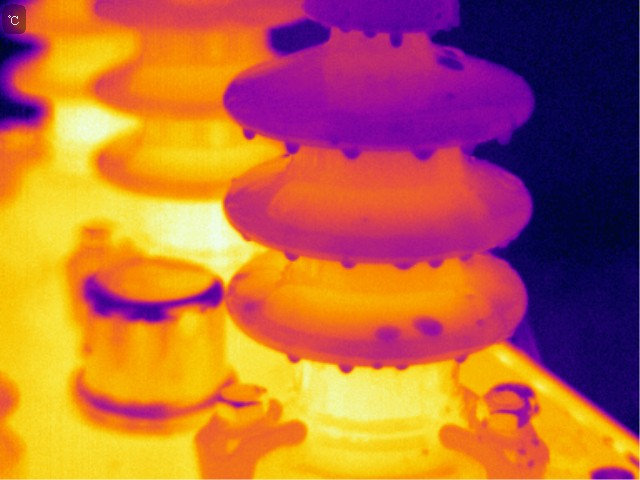Water: (433, 49, 469, 75), (413, 316, 447, 338), (410, 143, 440, 163), (382, 27, 408, 50), (372, 325, 401, 345), (231, 223, 255, 247), (453, 247, 474, 274), (340, 144, 365, 161), (333, 360, 359, 376), (359, 19, 377, 42), (391, 258, 420, 272), (331, 16, 350, 37), (335, 254, 359, 270), (496, 129, 515, 149), (282, 139, 305, 155), (239, 124, 258, 142), (282, 248, 302, 264), (452, 350, 471, 366), (426, 256, 446, 271), (284, 353, 307, 366), (496, 230, 507, 254), (366, 360, 386, 373), (395, 363, 410, 373)
